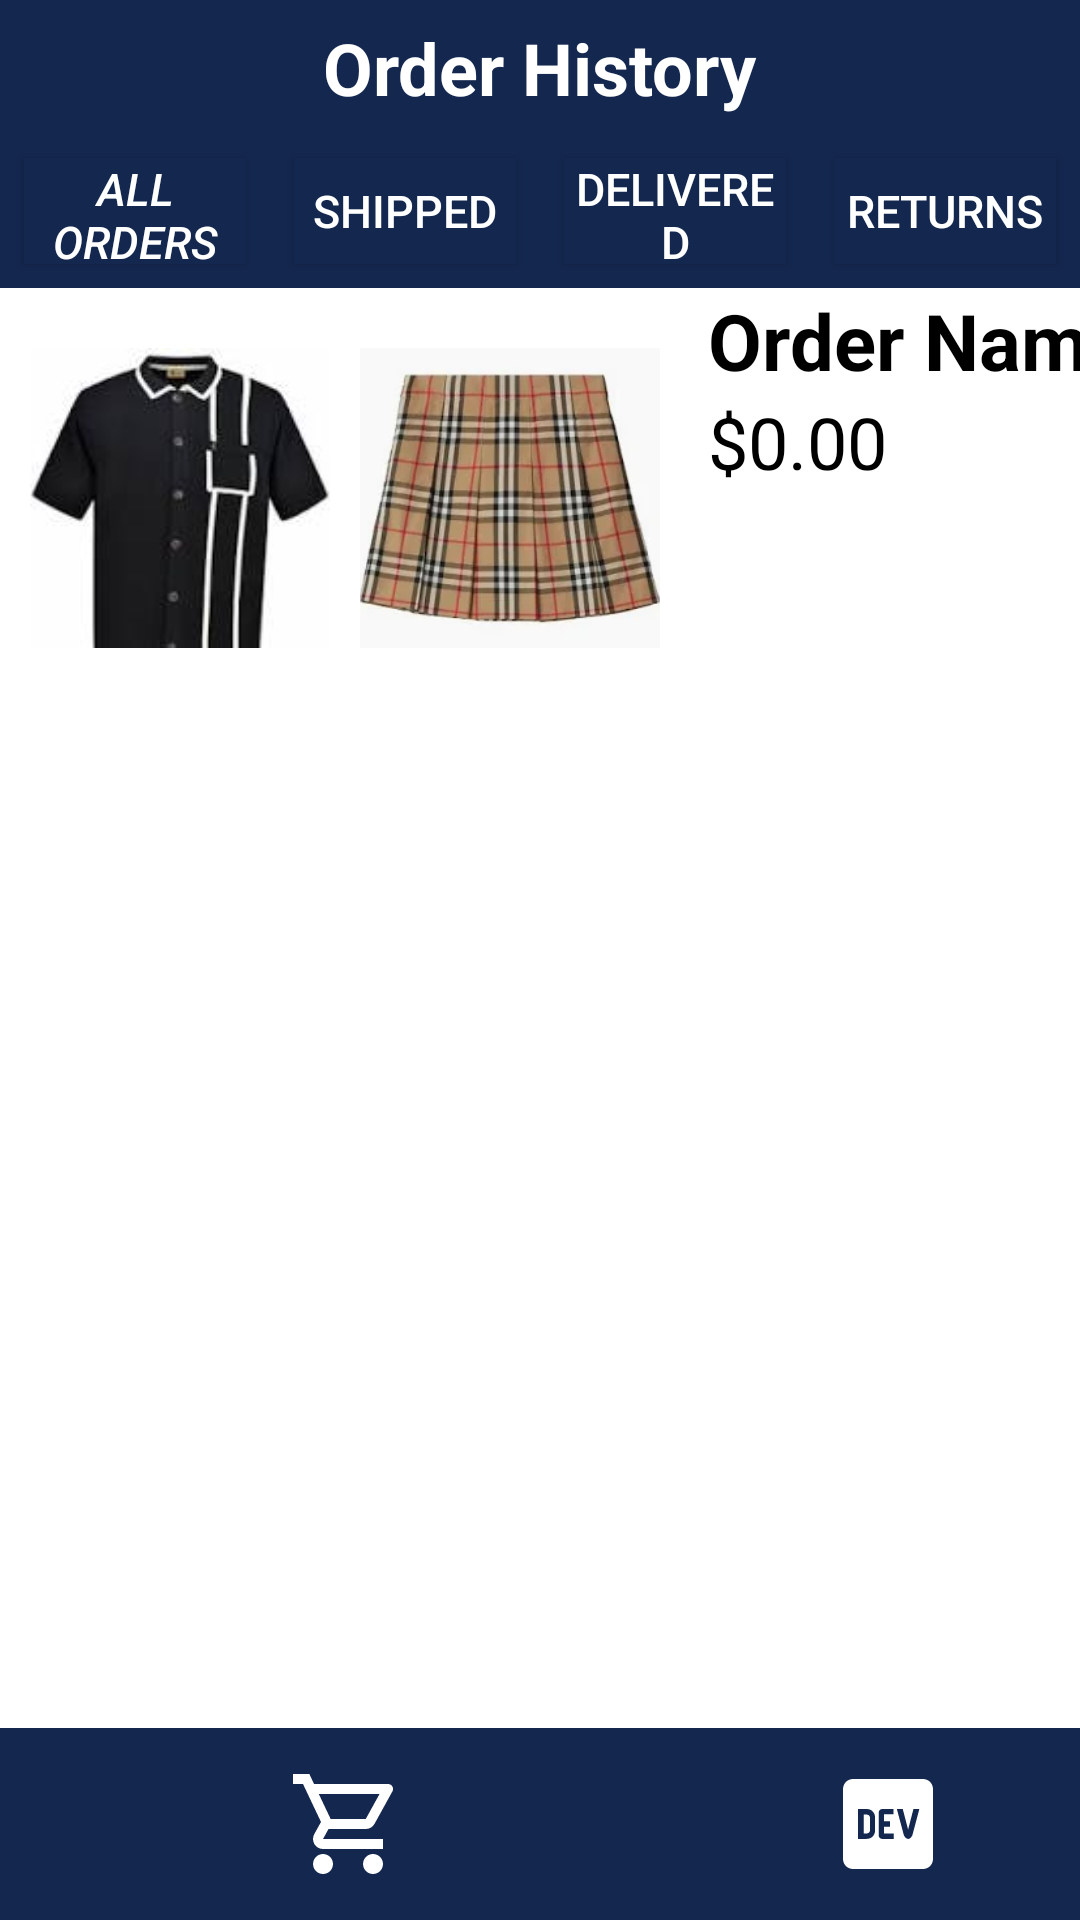

Point at icon controls on the screen. Image size 1080x1920, points as (x,y).
Order Image 1: (180,501)
Order Image 2: (510,498)
shopping cart: (343,1824)
